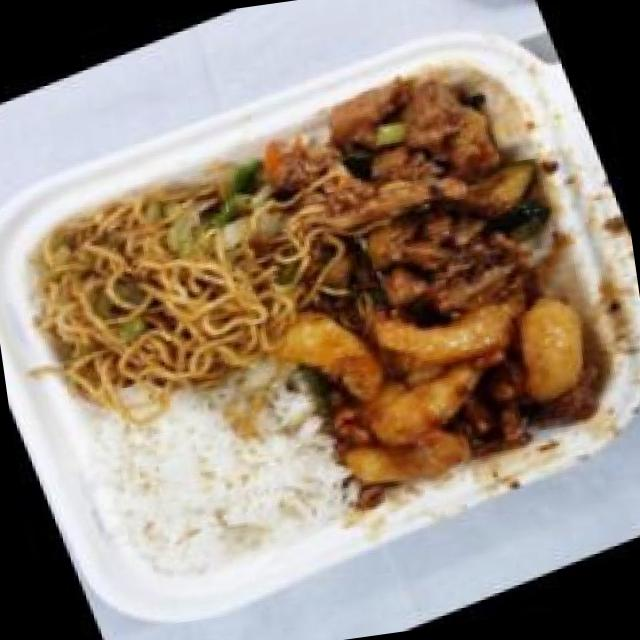Chow Mein: (0, 129, 353, 442)
Honey Walnut Shrimp: (260, 196, 636, 530)
Kung Pao Chicken: (260, 33, 584, 348)
White Steamed Rice: (74, 348, 366, 605)
